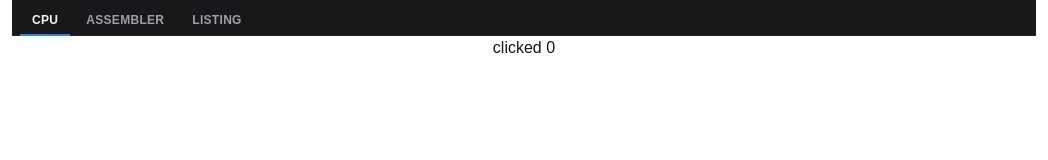
Tabs › shows a tab's panel when the tab is clicked
Click the tab "Assembler" at x=125, y=21, box top-left (74, 6), bottom-right (176, 36)
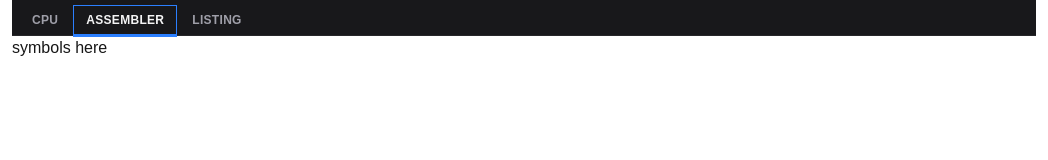
Expected: the panel named "Assembler" reads "symbols here", top-left (12, 39), bottom-right (107, 56)
